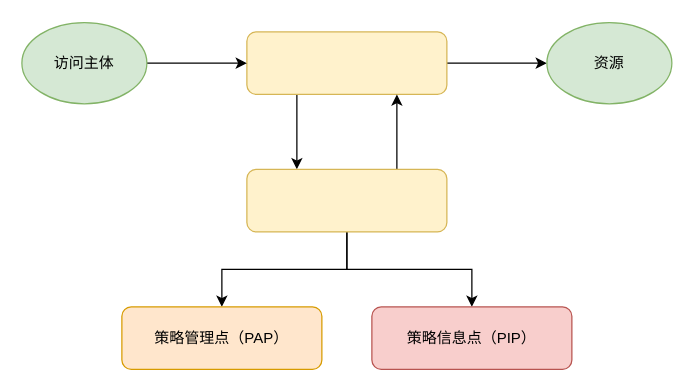
Some shapes in this 694 by 391 pixel diagram are drawn without their labels. Here are the shapes that lost their labels. From the top down, the centre of each, then its label:
[346,62]: 策略执行点（PEP）
[346,200]: 策略决策点（PDP）
